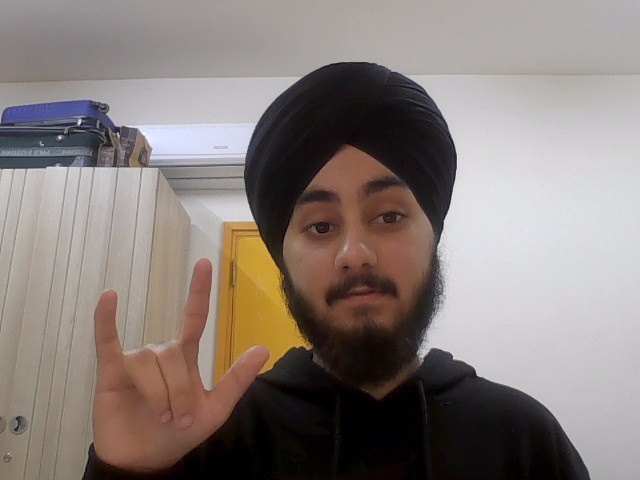ILoveYou: (84, 252, 268, 470)
